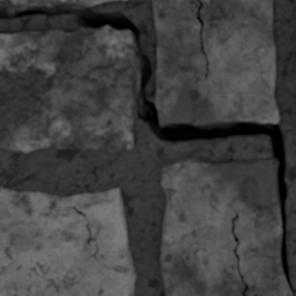brick: (161, 158, 291, 295), (0, 27, 135, 152), (153, 0, 278, 123), (0, 187, 135, 295), (51, 0, 111, 5), (0, 0, 38, 4)
crack: (0, 0, 295, 294)
